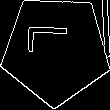L_E: (31, 33, 81, 67)
